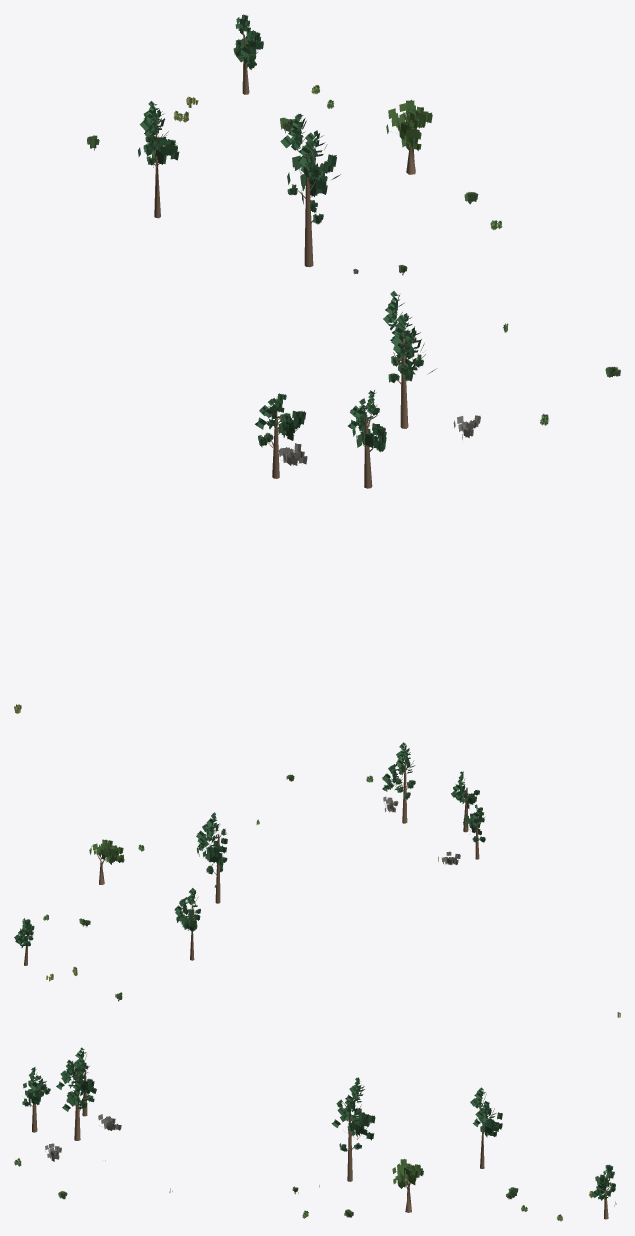
File: arch_land_scatter_c22_18.glb
3 renders of one model, top to bottom at view 1: azimuth 30°, elevation 25°; view 2: azimuth 150°, elevation 25°; view 3: azimuth 270°, elevation 25°, orthographic. The views are drawn at different scales.
Visible parts, largest first — view 1: arch_land_scatter_c22_18; view 2: arch_land_scatter_c22_18; view 3: arch_land_scatter_c22_18.
Part boxes in pixels (<box>): arch_land_scatter_c22_18: <box>14,14,620,713</box>; arch_land_scatter_c22_18: <box>14,742,620,1017</box>; arch_land_scatter_c22_18: <box>14,1047,616,1221</box>.
Bounding box in the file's own units: 68.29 × 35.86 × 81.85.
